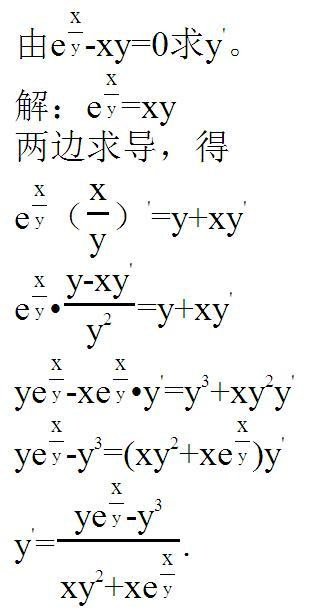cube: (197, 370, 209, 392), (153, 496, 165, 516), (92, 435, 104, 453)
division: (54, 534, 184, 545), (85, 206, 113, 218)
square: (169, 434, 181, 455), (262, 372, 274, 390), (95, 566, 103, 586)
